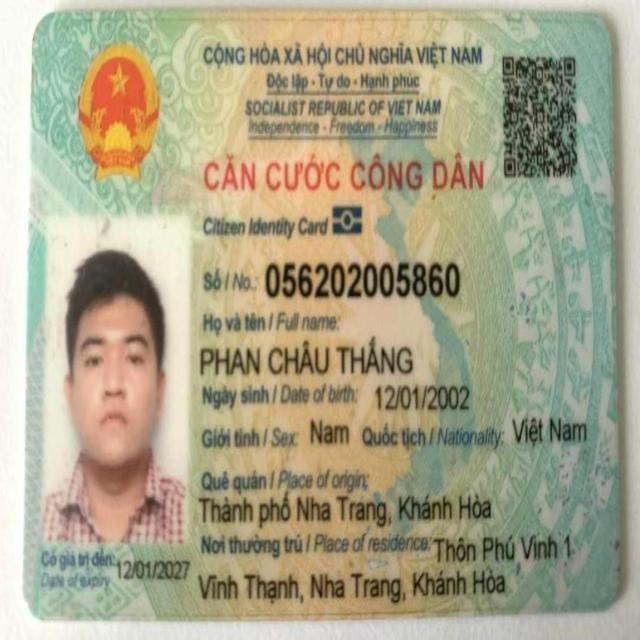current_place: (194, 565, 509, 600), (432, 530, 580, 568)
dob: (369, 380, 473, 413)
expire_date: (111, 555, 193, 584)
gender: (305, 414, 351, 451)
id: (259, 253, 462, 308)
name: (199, 336, 417, 378)
nationality: (510, 412, 590, 448)
origin_place: (197, 489, 494, 528)
